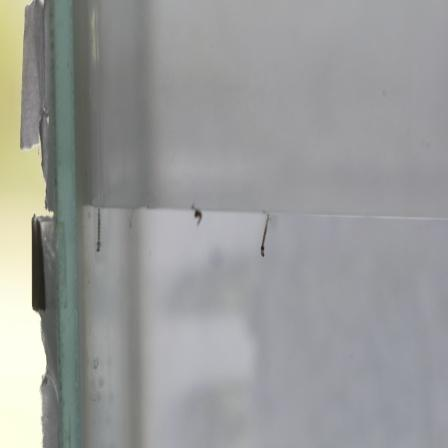Jentik-Nyamuk: (255, 211, 272, 259), (92, 207, 107, 257), (189, 207, 207, 230)
